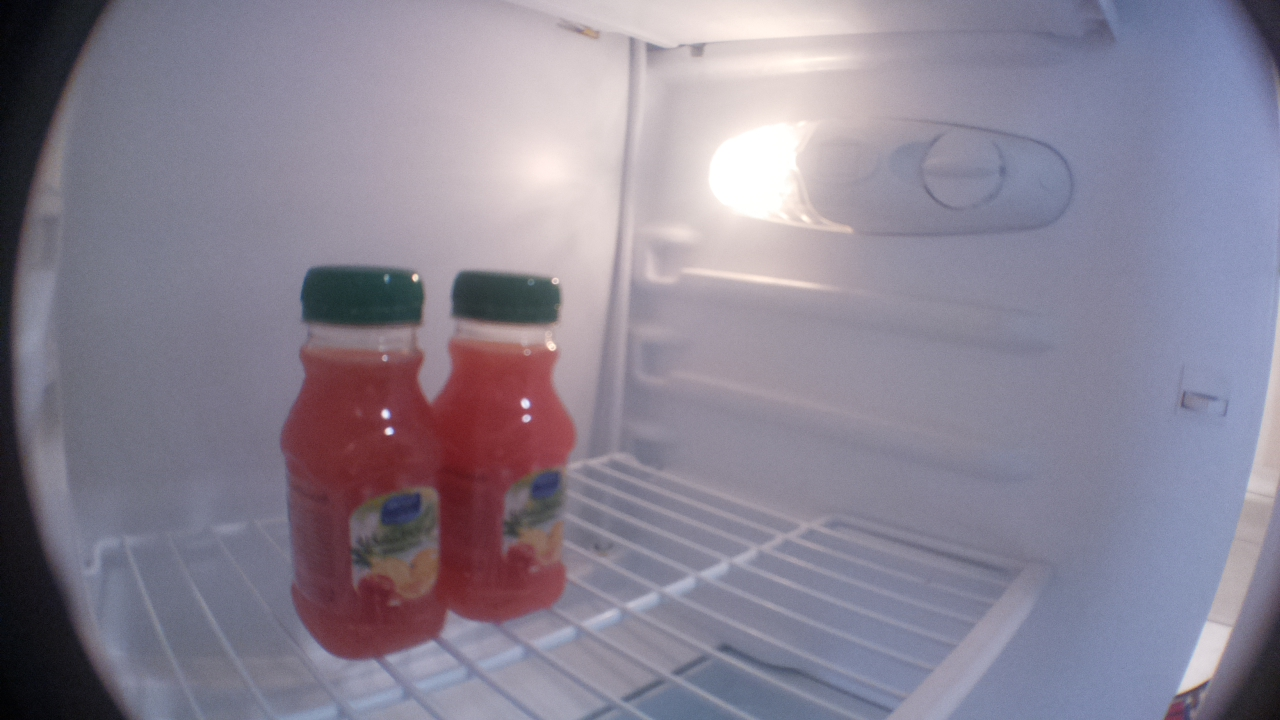juice: (278, 260, 451, 666), (449, 261, 575, 628)
